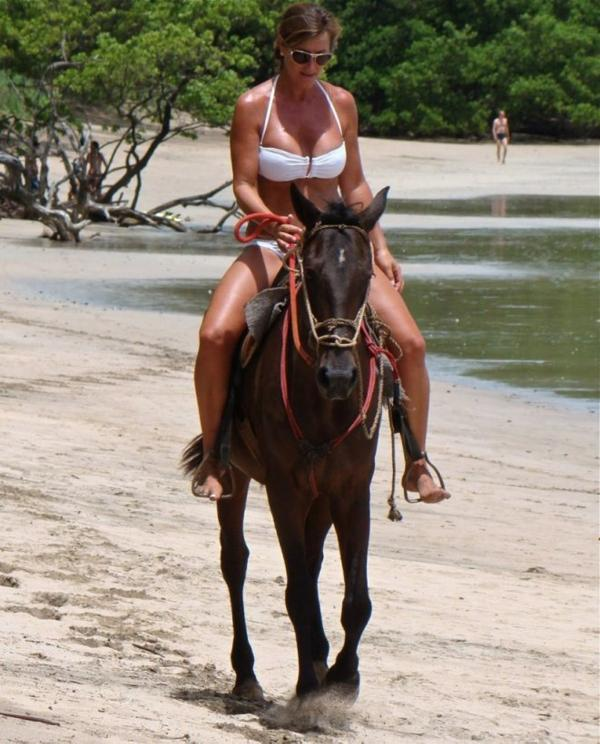person: (192, 10, 453, 506)
